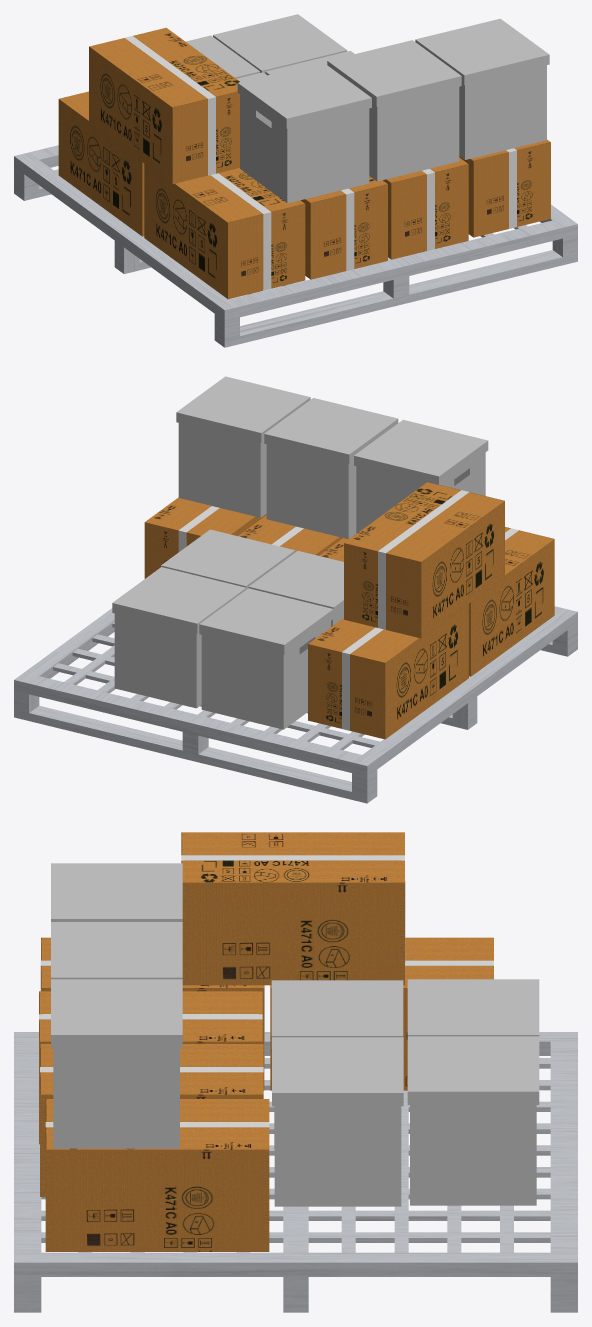
Rendered from caja_carton.fbx.
3 renders of one model, top to bottom at view 1: azimuth 30°, elevation 25°; view 2: azimuth 150°, elevation 25°; view 3: azimuth 270°, elevation 25°, orthographic. The views are drawn at different scales.
Parts seen in each view (by area): view 1: pPlane2, polySurface15, polySurface24, polySurface18, polySurface3, polySurface20, polySurface13, polySurface23, polySurface10, polySurface21, polySurface17, polySurface19 (+9 smaller); view 2: pPlane2, polySurface15, polySurface3, polySurface1, polySurface24, polySurface20, polySurface13, polySurface11, polySurface2, polySurface17, polySurface19, polySurface14 (+8 smaller); view 3: pPlane2, polySurface15, polySurface10, polySurface6, polySurface11, polySurface13, polySurface7, polySurface14, polySurface12, polySurface17, polySurface26, polySurface2 (+6 smaller).
Part boxes in pixels (x1=…): pPlane2: x1=14, y1=145, x2=577, y2=347; polySurface15: x1=89, y1=27, x2=239, y2=183; polySurface24: x1=144, y1=164, x2=305, y2=299; polySurface18: x1=240, y1=94, x2=369, y2=203; polySurface3: x1=58, y1=91, x2=144, y2=236; polySurface20: x1=369, y1=86, x2=459, y2=181; polySurface13: x1=459, y1=65, x2=546, y2=159; polySurface23: x1=301, y1=176, x2=387, y2=279; polySurface10: x1=459, y1=139, x2=550, y2=237; polySurface21: x1=383, y1=157, x2=468, y2=259; polySurface17: x1=237, y1=62, x2=371, y2=128; polySurface19: x1=327, y1=40, x2=461, y2=106; pPlane2: x1=14, y1=606, x2=577, y2=803; polySurface15: x1=344, y1=482, x2=504, y2=638; polySurface3: x1=308, y1=604, x2=468, y2=739; polySurface1: x1=201, y1=621, x2=330, y2=729; polySurface24: x1=469, y1=527, x2=554, y2=676; polySurface20: x1=266, y1=444, x2=356, y2=539; polySurface13: x1=178, y1=423, x2=266, y2=517; polySurface11: x1=114, y1=613, x2=201, y2=708; polySurface2: x1=199, y1=588, x2=333, y2=654; polySurface17: x1=354, y1=419, x2=488, y2=484; polySurface19: x1=264, y1=398, x2=398, y2=464; polySurface14: x1=176, y1=376, x2=310, y2=442; pPlane2: x1=14, y1=1032, x2=577, y2=1312; polySurface15: x1=181, y1=832, x2=404, y2=985; polySurface10: x1=45, y1=1099, x2=269, y2=1251; polySurface6: x1=274, y1=1106, x2=401, y2=1206; polySurface11: x1=410, y1=1105, x2=536, y2=1205; polySurface13: x1=53, y1=1048, x2=179, y2=1148; polySurface7: x1=272, y1=1037, x2=403, y2=1106; polySurface14: x1=51, y1=979, x2=182, y2=1048; polySurface12: x1=407, y1=1036, x2=539, y2=1104; polySurface17: x1=51, y1=863, x2=182, y2=921; polySurface26: x1=271, y1=980, x2=403, y2=1048; polySurface2: x1=407, y1=979, x2=539, y2=1036.
Size of the model in its own units: 23.96 by 13 by 24.76.
